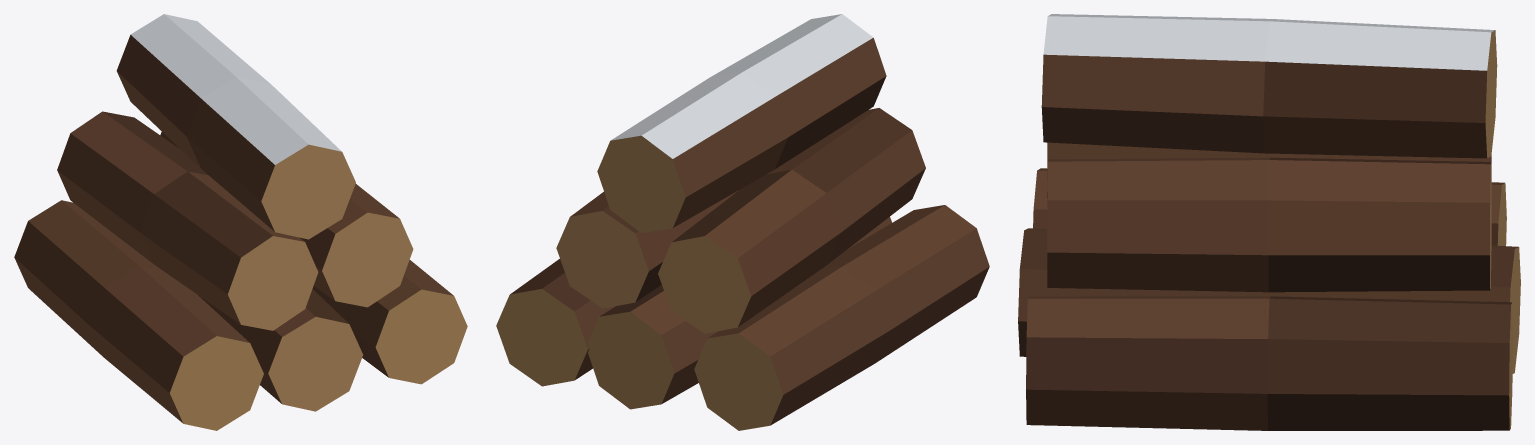
The model's file is Firewood_Stack.glb.
3 views of the same model, side by side, from view 1: azimuth 30°, elevation 25°; view 2: azimuth 150°, elevation 25°; view 3: azimuth 270°, elevation 25° (orthographic). The views are drawn at different scales.
Visible parts, largest first — view 1: Firewood_Stack; view 2: Firewood_Stack; view 3: Firewood_Stack.
Boxes of the visible parts, bbox=[...] form: Firewood_Stack: bbox=[14, 14, 467, 430]; Firewood_Stack: bbox=[496, 14, 989, 430]; Firewood_Stack: bbox=[1018, 14, 1520, 430].
Size of the model in its own units: 2.78 by 2.34 by 3.09.
